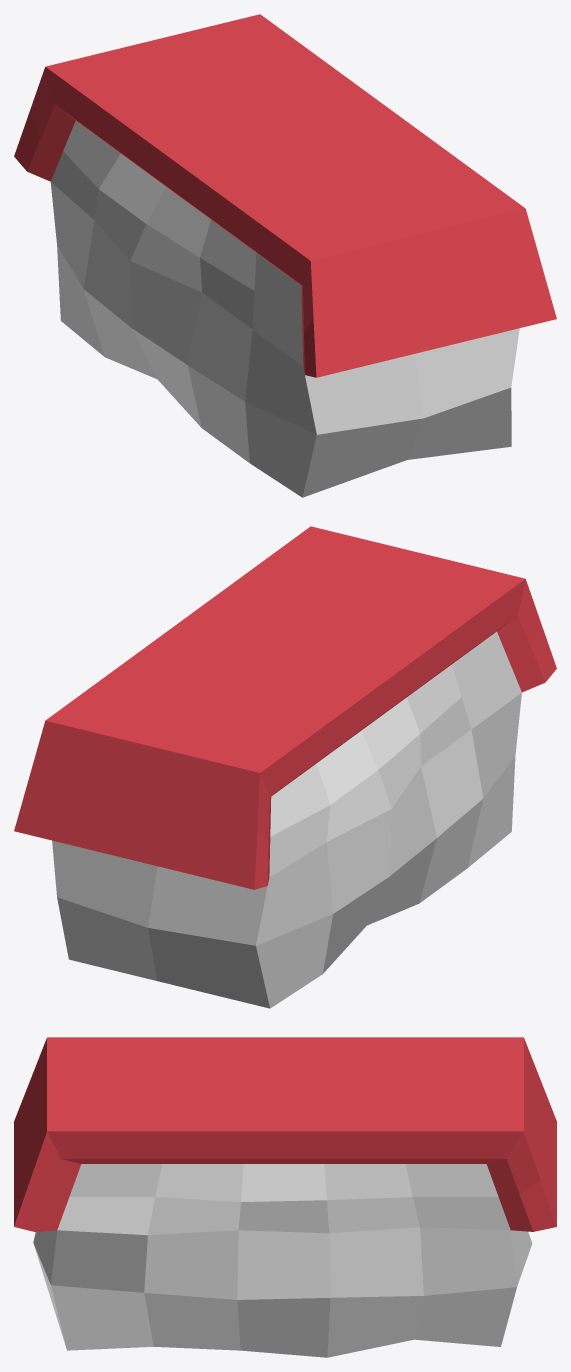
The model's file is m_coloniusLory_Sushi_Tuna.fbx.
3 views of the same model, one above another, from view 1: azimuth 30°, elevation 25°; view 2: azimuth 150°, elevation 25°; view 3: azimuth 270°, elevation 25° (orthographic). The views are drawn at different scales.
Visible parts, largest first — view 1: m_coloniusLory_Sushi_Tuna; view 2: m_coloniusLory_Sushi_Tuna; view 3: m_coloniusLory_Sushi_Tuna.
Boxes of the visible parts, bbox=[...] form: m_coloniusLory_Sushi_Tuna: bbox=[14, 14, 556, 497]; m_coloniusLory_Sushi_Tuna: bbox=[14, 526, 556, 1008]; m_coloniusLory_Sushi_Tuna: bbox=[14, 1037, 556, 1357].
Bounding box in the file's own units: 3.17 × 2.87 × 6.4.
